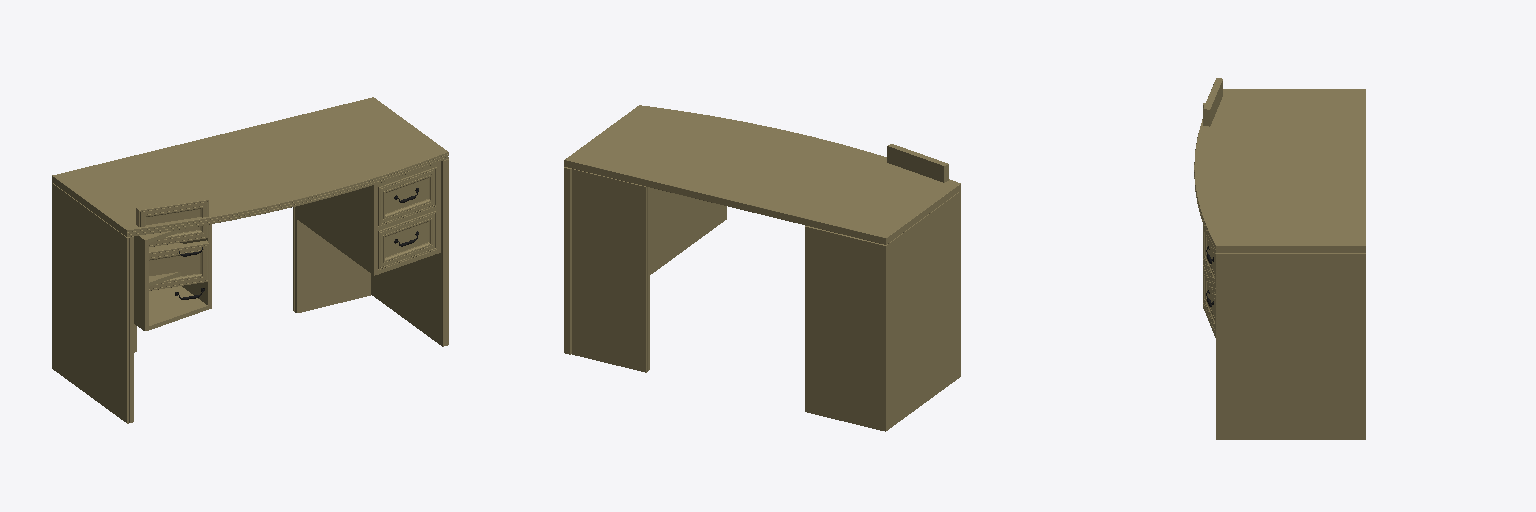
Rendered from table.obj.
3 renders of one model, left to right at view 1: azimuth 30°, elevation 25°; view 2: azimuth 150°, elevation 25°; view 3: azimuth 270°, elevation 25°, orthographic.
Parts seen in each view (by area): view 1: Krishka_01, Bokovina_0, Box03, Bokovina_1, Bokovina_2, Box04, Fasad_10, Fasad_11, Fasad_13, Fasad_12; view 2: Krishka_01, Bokovina_0, Bokovina_2, Bokovina_3, Box03, Bokovina_1, Fasad_12; view 3: Bokovina_1, Krishka_01, Fasad_12.
Part boxes in pixels (x1,y1,x2,y2): Krishka_01: (52, 97, 448, 236); Bokovina_0: (52, 183, 133, 423); Box03: (297, 162, 440, 275); Bokovina_1: (371, 159, 448, 346); Bokovina_2: (293, 206, 370, 312); Box04: (134, 224, 211, 330); Fasad_10: (378, 167, 436, 225); Fasad_11: (378, 211, 436, 269); Fasad_13: (149, 240, 208, 290); Fasad_12: (136, 197, 208, 246); Krishka_01: (564, 105, 960, 244); Bokovina_0: (879, 191, 960, 431); Bokovina_2: (572, 169, 649, 372); Bokovina_3: (805, 226, 878, 429); Box03: (650, 188, 726, 274); Bokovina_1: (564, 167, 571, 354); Fasad_12: (887, 144, 948, 182); Bokovina_1: (1216, 253, 1365, 439); Krishka_01: (1194, 89, 1365, 252); Fasad_12: (1203, 78, 1222, 126).
Bounding box in the file's own units: 26.47 × 16.51 × 12.2.